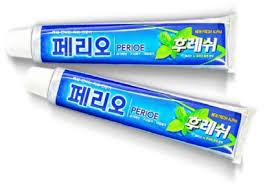toothpaste: (22, 57, 254, 175), (2, 11, 245, 75)
